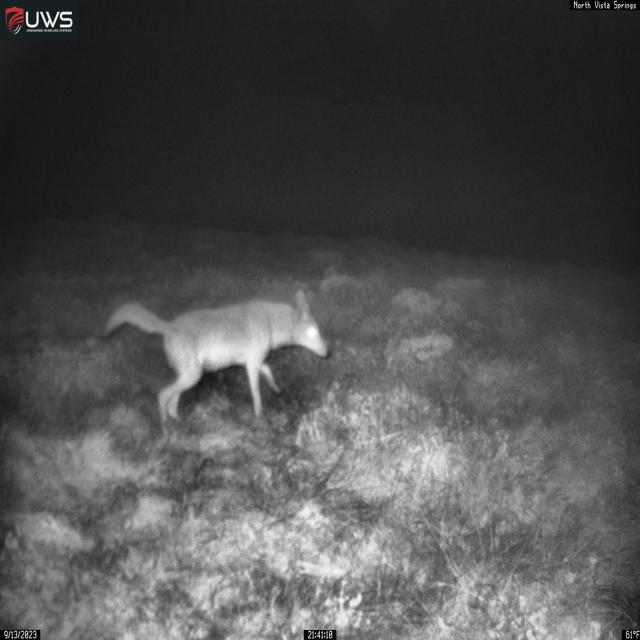coyote: (100, 288, 331, 432)
